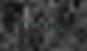five: (29, 19, 34, 30)
four: (23, 18, 28, 29), (35, 19, 40, 30)
nine: (59, 21, 64, 32)
one: (53, 20, 58, 32), (47, 20, 52, 31)
six: (41, 19, 46, 31)
three: (17, 18, 22, 29)
